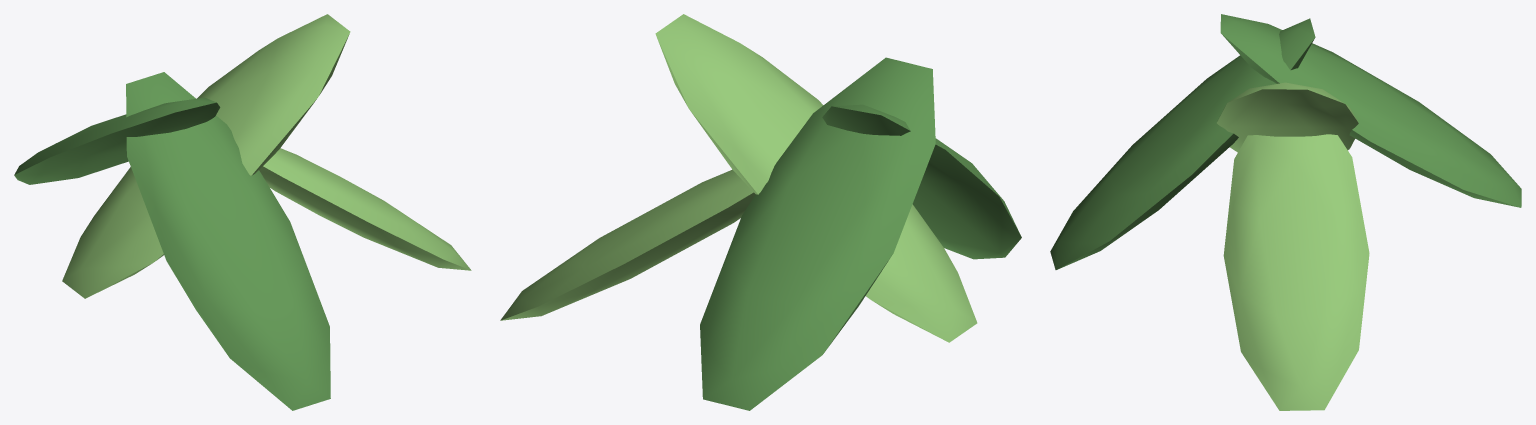
The model's file is prop_uw_broadleaf_a.glb.
3 views of the same model, side by side, from view 1: azimuth 30°, elevation 25°; view 2: azimuth 150°, elevation 25°; view 3: azimuth 270°, elevation 25° (orthographic). The views are drawn at different scales.
Visible parts, largest first — view 1: bla_1, bla_0, bla_2, bla_3; view 2: bla_3, bla_0, bla_2, bla_1; view 3: bla_2, bla_1, bla_3, bla_0.
Part boxes in pixels (box(x1,y1,x2,y2)): bla_1: box(126, 72, 330, 410); bla_0: box(62, 14, 350, 298); bla_2: box(259, 148, 471, 270); bla_3: box(14, 97, 220, 184); bla_3: box(700, 57, 935, 410); bla_0: box(655, 14, 977, 342); bla_2: box(500, 169, 755, 320); bla_1: box(822, 104, 1021, 259); bla_2: box(1223, 134, 1369, 410); bla_1: box(1050, 18, 1315, 269); bla_3: box(1220, 14, 1521, 207); bla_0: box(1217, 82, 1358, 152).
Bounding box in the file's own units: 0.451 × 0.3072 × 0.4974.
